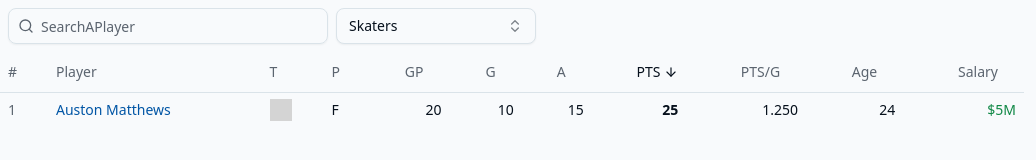
Test: PlayersTable › waits for enough characters before searching by name
The image size is (1036, 160).
Expected: the text "Auston Matthews" is shown, [56,101,171,119]
Step 1. Type "mc" into the search field named "PlayerSearch" → (168, 26), box [8,8,328,44]
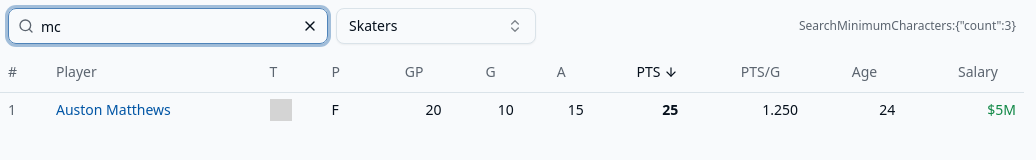
Result: the text "SearchMinimumCharacters:{\"count\":3}" is shown at [799,18,1016,34]
Step 2. Type "d" into the search field named "PlayerSearch" → (168, 26), box [8,8,328,44]
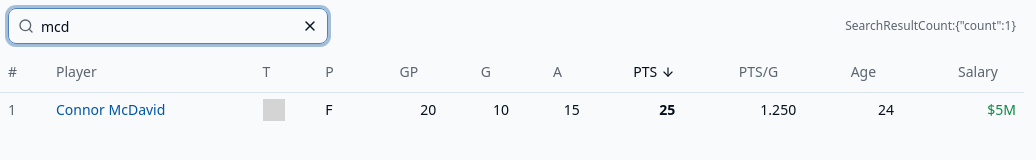
Result: the text "Connor McDavid" is shown at [56,101,165,119]
Result: the link "Auston Matthews" is gone
